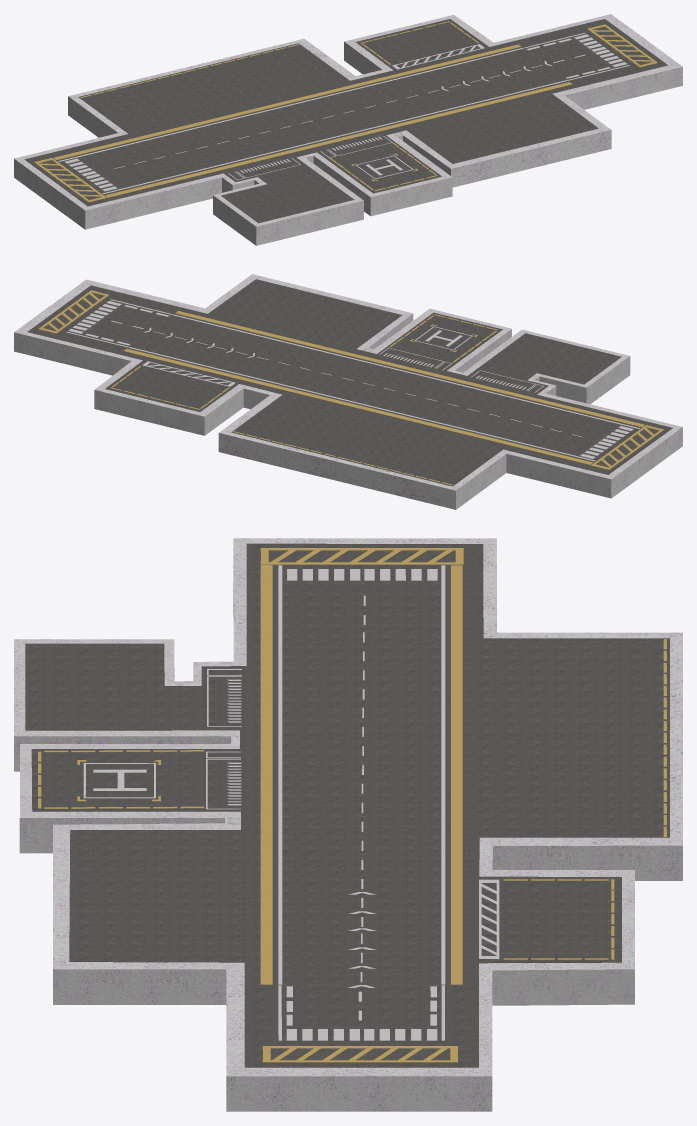
Rendered from Runway.fbx.
3 renders of one model, top to bottom at view 1: azimuth 30°, elevation 25°; view 2: azimuth 150°, elevation 25°; view 3: azimuth 270°, elevation 25°, orthographic. The views are drawn at different scales.
Parts seen in each view (by area): view 1: Runway; view 2: Runway; view 3: Runway.
Part boxes in pixels (x1=…): Runway: x1=14, y1=14, x2=682, y2=245; Runway: x1=14, y1=274, x2=682, y2=509; Runway: x1=14, y1=538, x2=682, y2=1111.
Bounding box in the file's own units: 81087 × 2579 × 42621.
